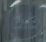bike lane: (5, 3, 42, 41)
